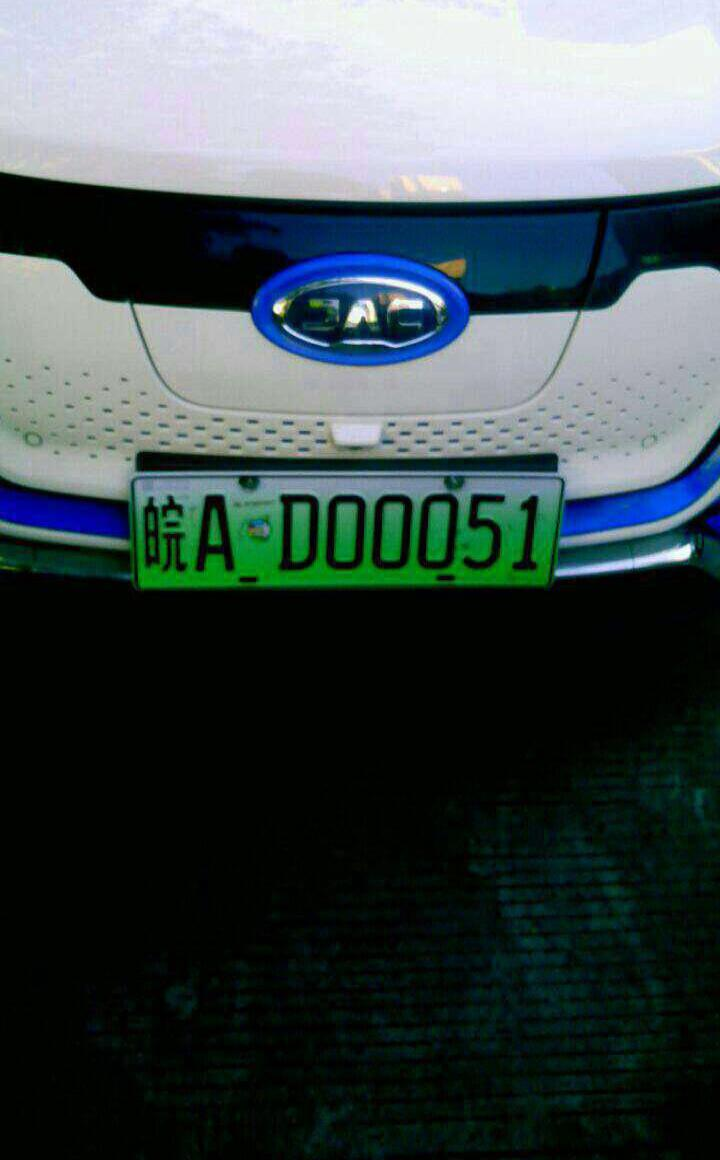car_id: (133, 476, 565, 590)
